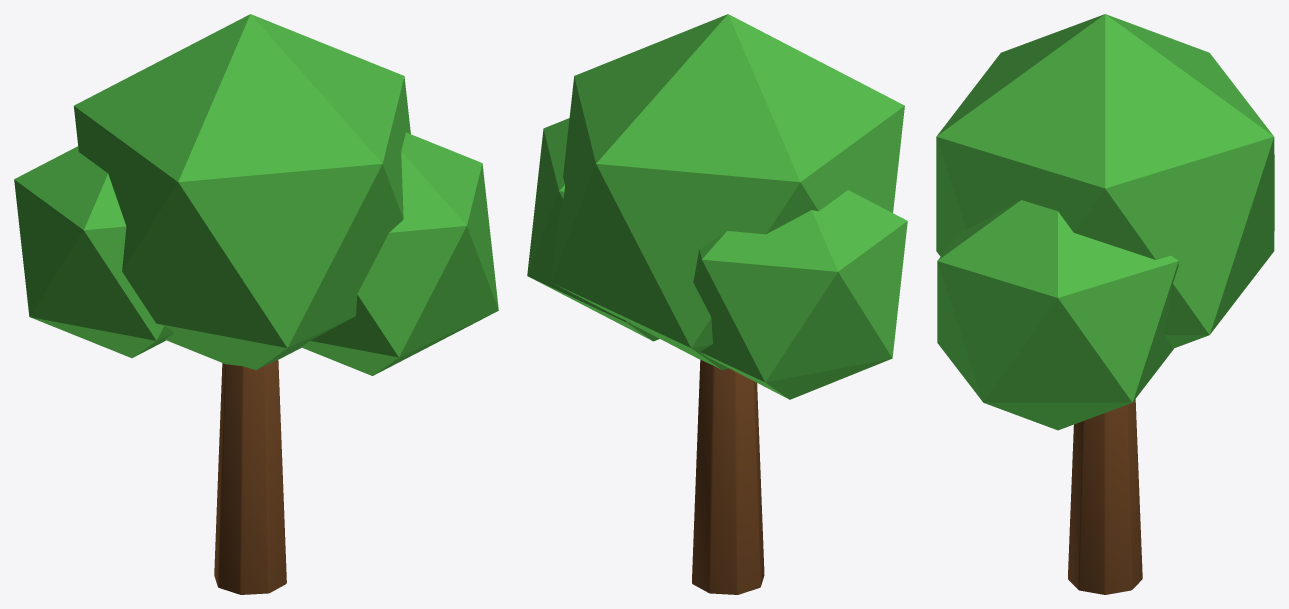
The model's file is Tree.fbx.
3 renders of one model, left to right at view 1: azimuth 30°, elevation 25°; view 2: azimuth 150°, elevation 25°; view 3: azimuth 270°, elevation 25°, orthographic.
Visible parts, largest first — view 1: Tree; view 2: Tree; view 3: Tree.
Part boxes in pixels (x1=…): Tree: x1=14, y1=14, x2=498, y2=594; Tree: x1=527, y1=14, x2=907, y2=594; Tree: x1=936, y1=14, x2=1274, y2=594.
Bounding box in the file's own units: 979 × 1320 × 715.
